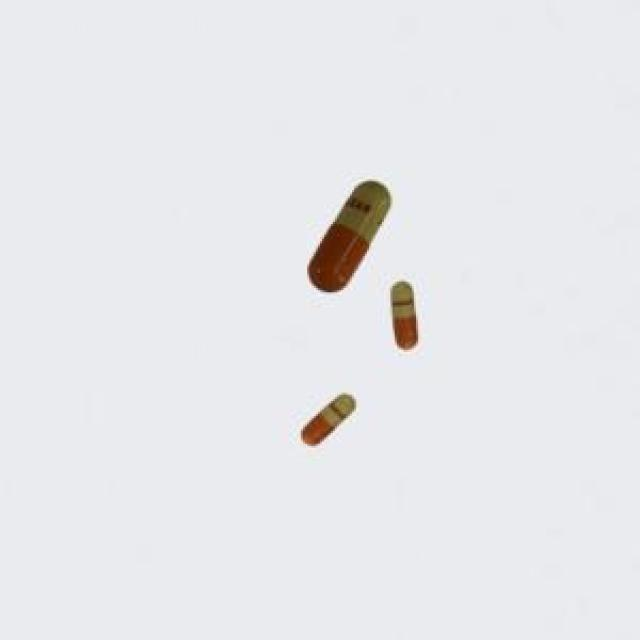Alaxan: (296, 180, 439, 360), (289, 384, 370, 455)
